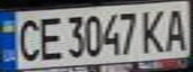0: (81, 11, 106, 57)
3: (63, 11, 84, 60)
4: (103, 9, 124, 56)
7: (118, 8, 142, 55)
A: (160, 3, 193, 53)
C: (9, 15, 45, 63)
E: (33, 12, 63, 62)
K: (139, 6, 169, 54)
